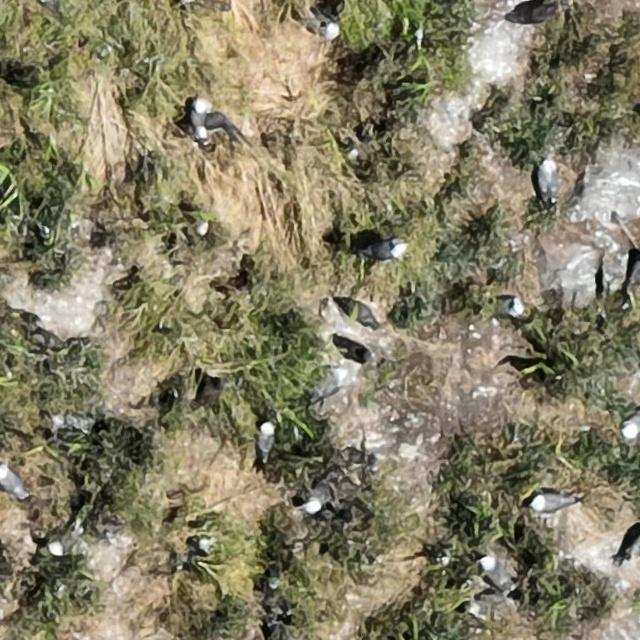umineko: (195, 94, 218, 144), (303, 484, 331, 514), (0, 467, 28, 496), (481, 559, 508, 589), (362, 239, 402, 257), (539, 160, 557, 198), (531, 494, 568, 512), (47, 537, 76, 558), (259, 422, 274, 458), (622, 409, 639, 437), (321, 18, 339, 40)
